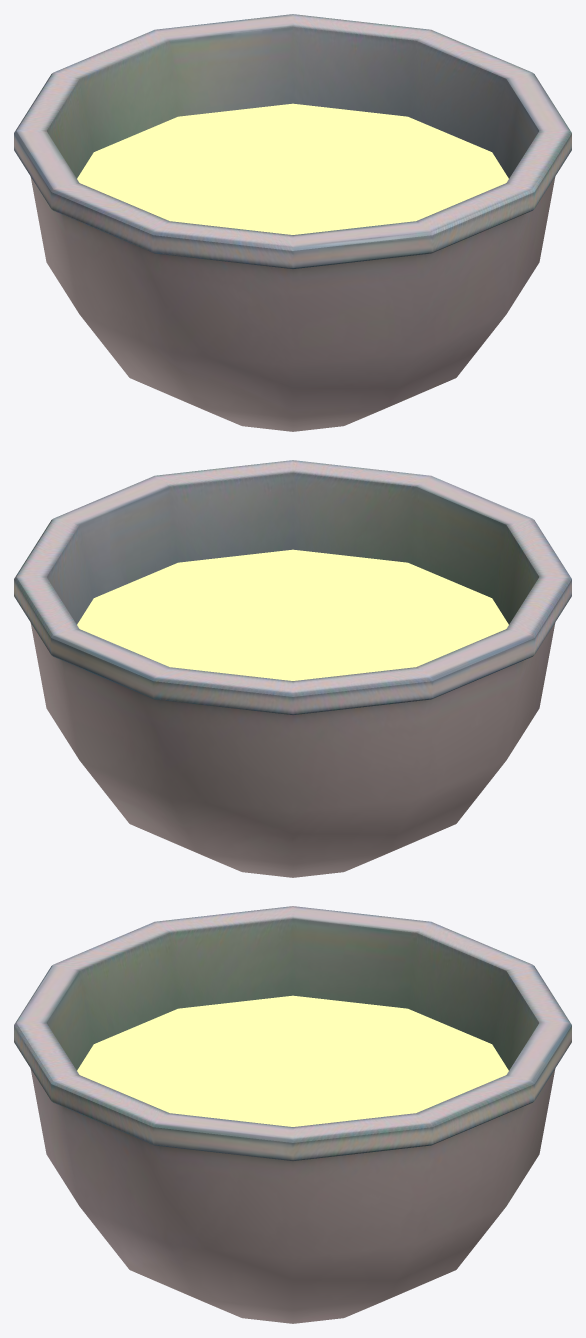
Rendered from mixingBowlWhisked.gltf.
The picture shows the model from 3 angles, top to bottom: view 1: azimuth 30°, elevation 25°; view 2: azimuth 150°, elevation 25°; view 3: azimuth 270°, elevation 25°; orthographic projection.
Visible parts, largest first — view 1: MixingBowl, Cylinder; view 2: MixingBowl, Cylinder; view 3: MixingBowl, Cylinder.
Boxes of the visible parts, <box> form: MixingBowl: <box>14,14,571,431</box>; Cylinder: <box>77,103,508,234</box>; MixingBowl: <box>14,460,571,877</box>; Cylinder: <box>77,549,508,680</box>; MixingBowl: <box>14,906,571,1323</box>; Cylinder: <box>77,995,508,1126</box>.
Bounding box in the file's own units: 0.3931 × 0.2142 × 0.3931.
2 materials, 2 textured.
